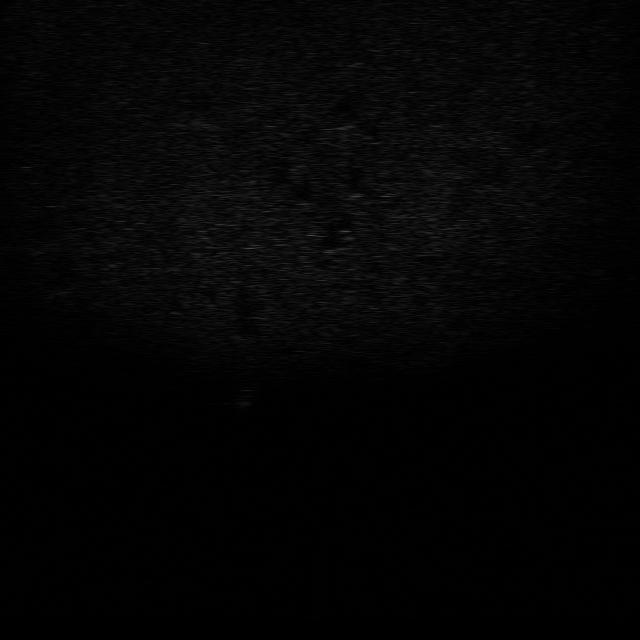human body: (228, 378, 260, 426)
